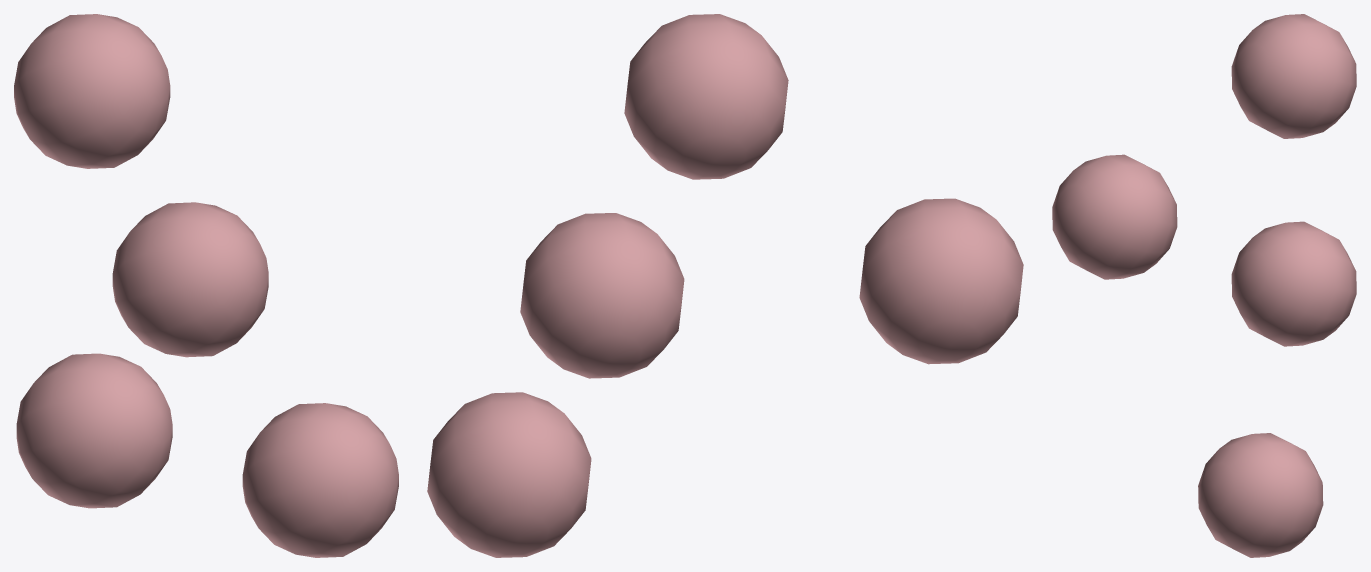
The picture shows the model from 3 angles, left to right: view 1: azimuth 30°, elevation 25°; view 2: azimuth 150°, elevation 25°; view 3: azimuth 270°, elevation 25°; orthographic projection. The views are drawn at different scales.
Visible parts, largest first — view 1: ZA_c01481b0aee9d1bf; view 2: ZA_c01481b0aee9d1bf; view 3: ZA_c01481b0aee9d1bf.
Boxes of the visible parts, x1,y1,x2,y2 form: ZA_c01481b0aee9d1bf: [14, 14, 398, 557]; ZA_c01481b0aee9d1bf: [427, 14, 1023, 557]; ZA_c01481b0aee9d1bf: [1052, 14, 1356, 557].
Bounding box in the file's own units: 0.00855 × 0.0102 × 0.00624.
